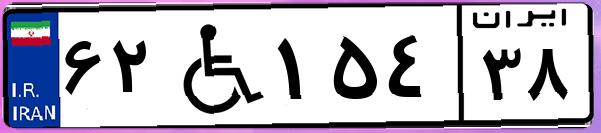1: (270, 28, 330, 110)
2: (110, 28, 158, 98)
3: (475, 38, 525, 113)
4: (385, 28, 445, 110)
5: (330, 28, 385, 110)
6: (57, 26, 110, 100)
8: (525, 38, 570, 115)
ژ (معلولین و جانبازان): (158, 12, 270, 120)
